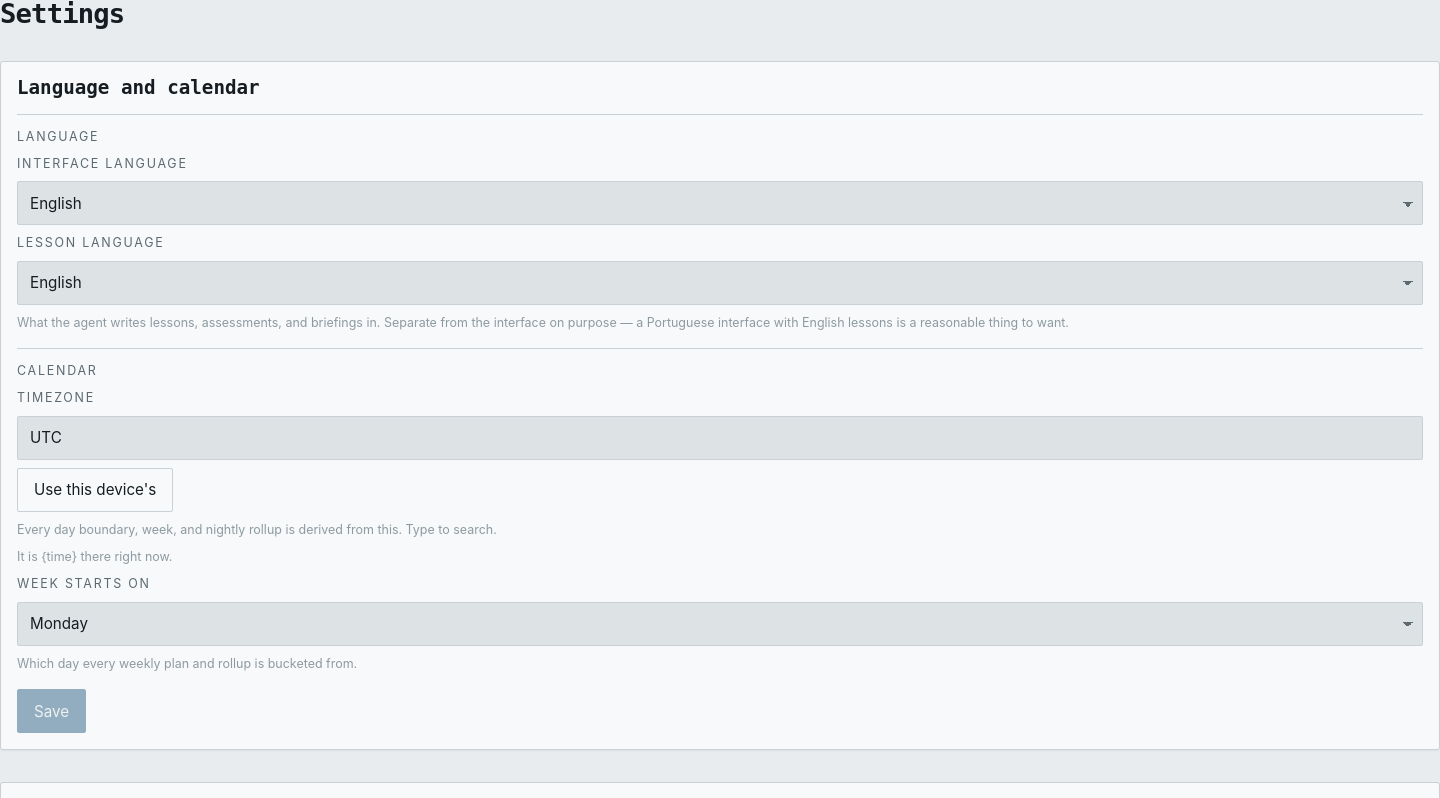
it: the timezone picker (FR-L5) › refuses one Intl does not know rather than letting the server say no
The image size is (1440, 798).
Replace the text in the field labelled "Timezone" with "Mars/Olympus": [720, 438] box [17,416,1423,460]
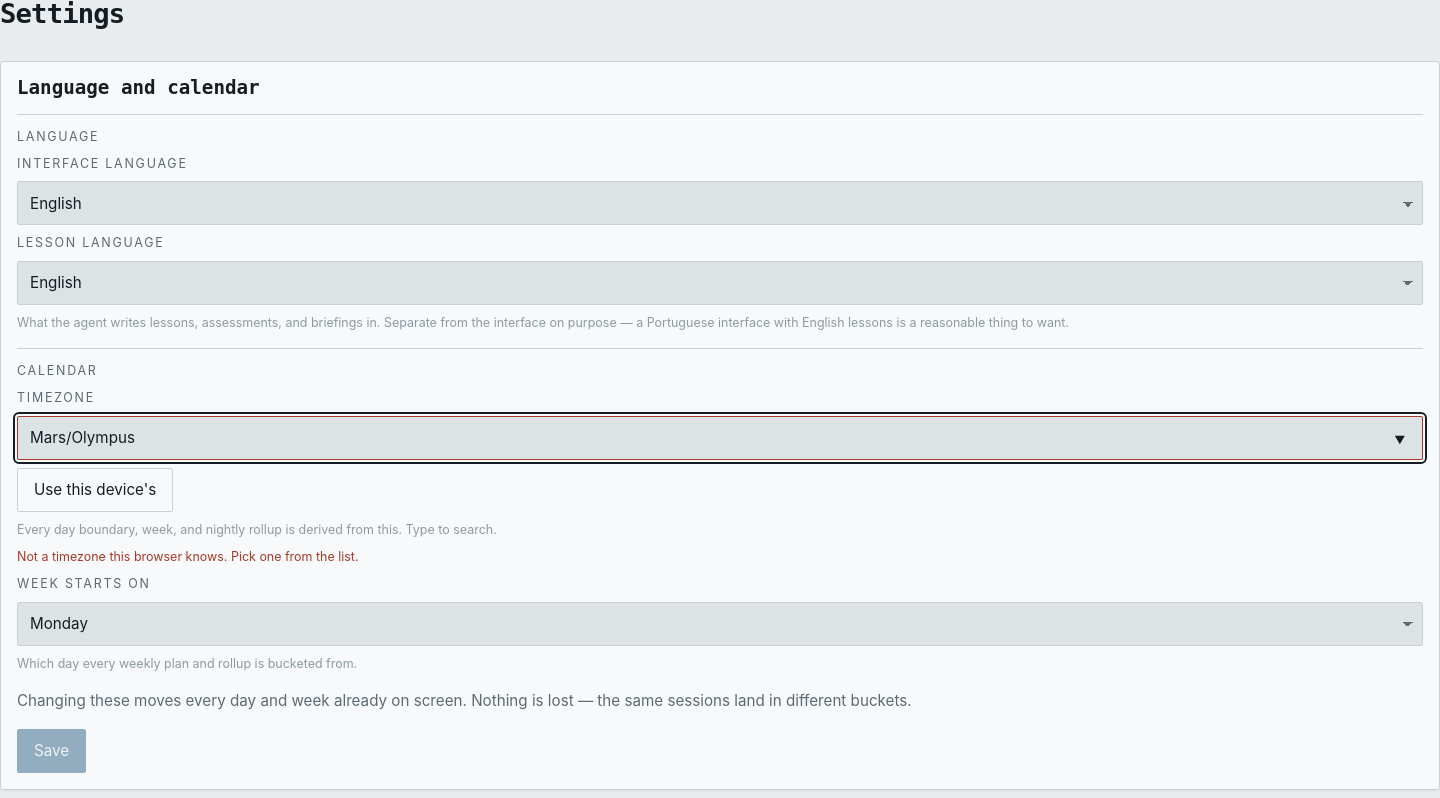
Check: the button "Save" is disabled, box [17,729,86,773]
Check: the message shows "Not a timezone", box [17,549,358,564]
